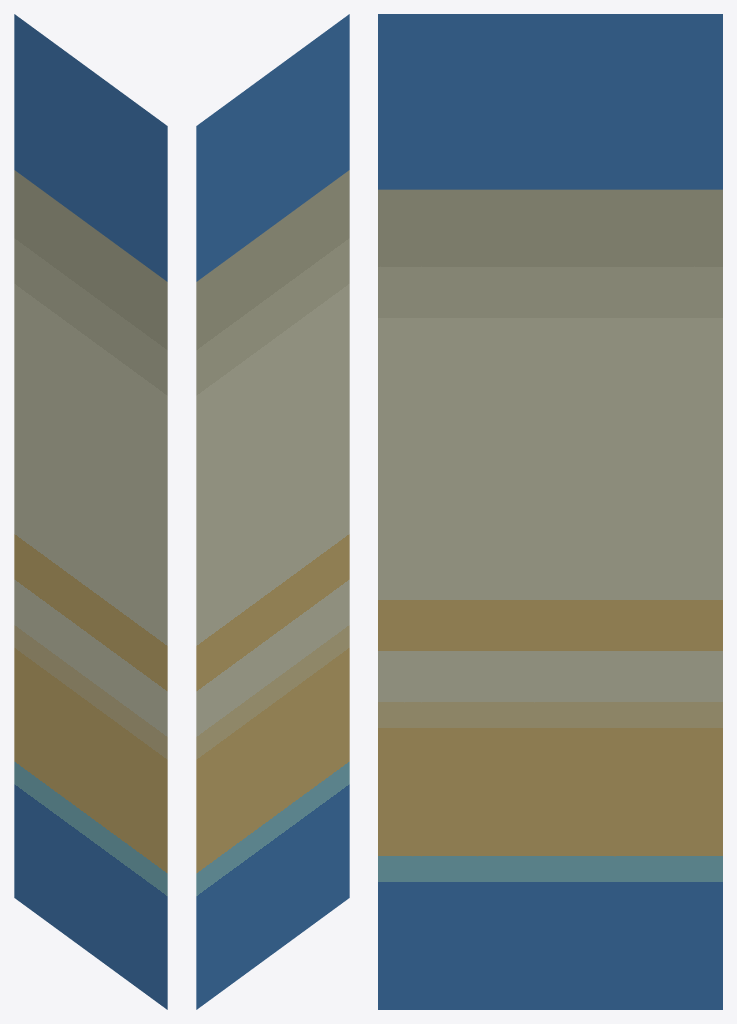
The picture shows the model from 3 angles, left to right: view 1: azimuth 30°, elevation 25°; view 2: azimuth 150°, elevation 25°; view 3: azimuth 270°, elevation 25°; orthographic projection. The views are drawn at different scales.
Bounding box in the file's own units: 0 × 3.19 × 1.
2 materials, 2 textured.
